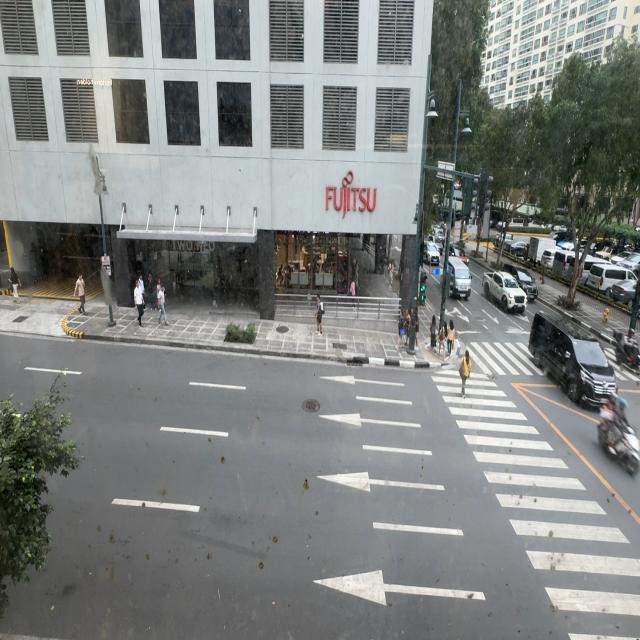crossing: (458, 349, 471, 396), (396, 311, 407, 350), (446, 320, 455, 358), (437, 323, 446, 359), (405, 310, 413, 350), (430, 316, 438, 352)
pedestrain: (134, 279, 145, 329), (8, 265, 22, 304), (74, 273, 86, 314), (396, 311, 407, 350), (314, 296, 324, 338), (446, 320, 455, 358), (437, 323, 446, 359), (405, 310, 413, 350), (430, 316, 438, 352), (414, 309, 419, 347), (350, 278, 356, 296)
